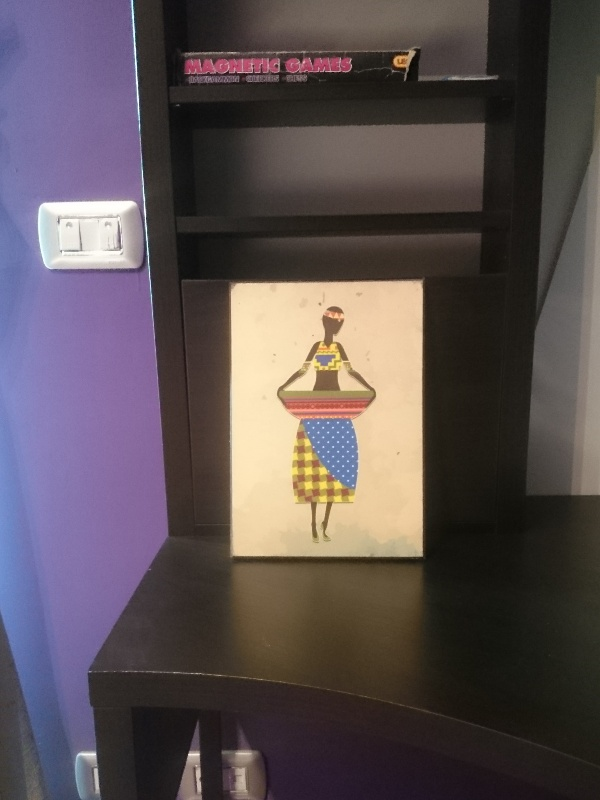my image: (231, 282, 423, 559)
